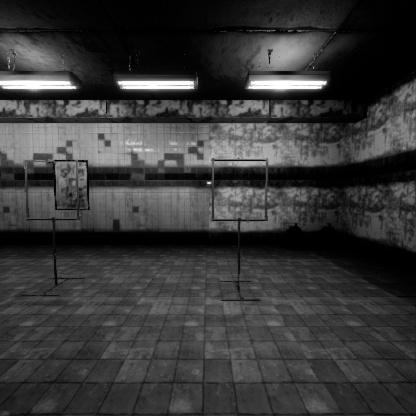gate: (212, 194, 273, 257), (24, 195, 84, 255)
